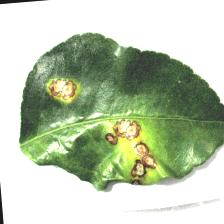canker: (37, 72, 176, 186)
